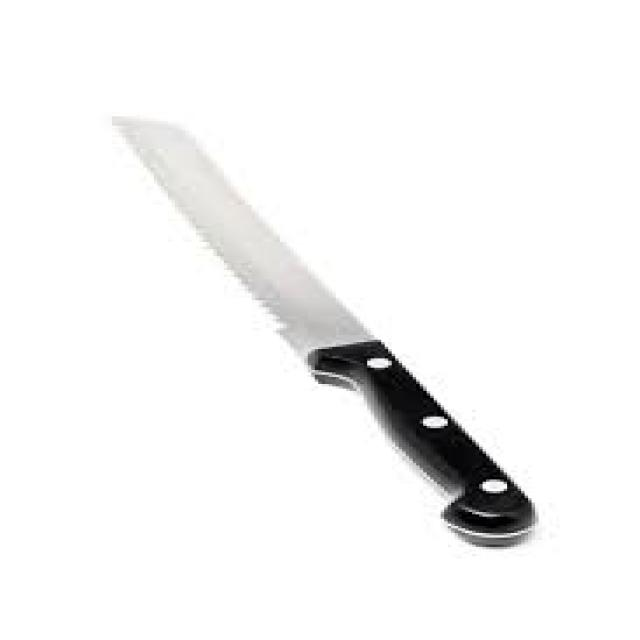Knife: (112, 114, 535, 545)
